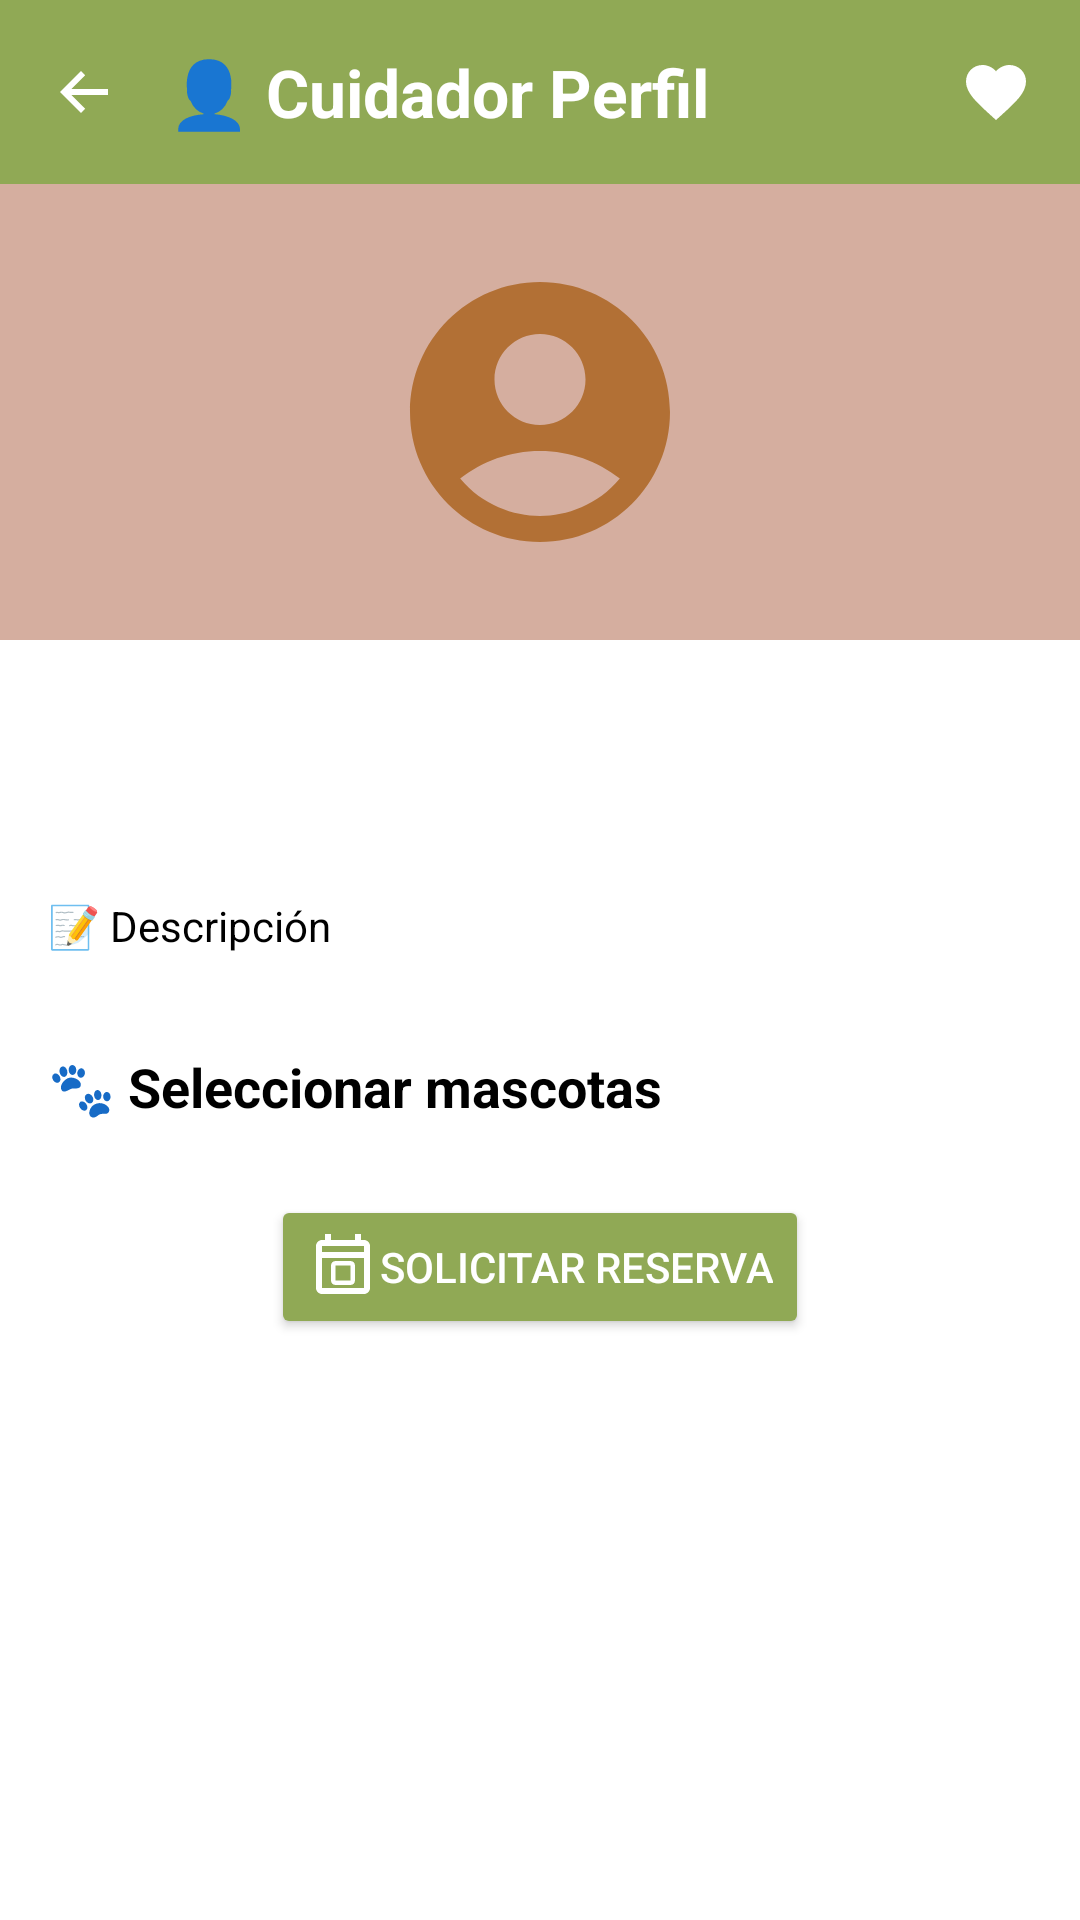

Where to tap for icons on this 1080*1920 app screen, as [x,y]:
favoritos blanco: [996,92]
